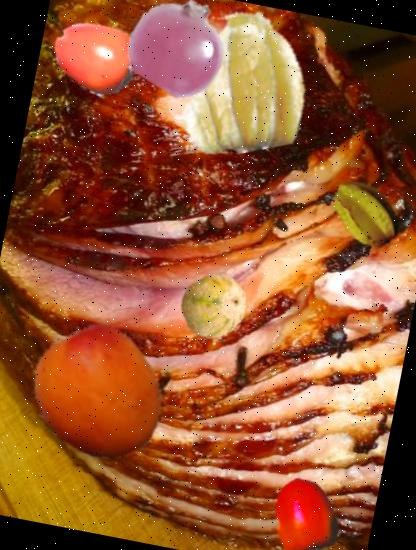Apricot: (17, 313, 179, 475)
Cantaloupe: (174, 266, 253, 346)
Carambula: (321, 169, 411, 258)
Kaki: (42, 4, 148, 110), (259, 470, 352, 550)
Physalis: (155, 0, 323, 166)
Redcurrant: (122, 0, 237, 103)
